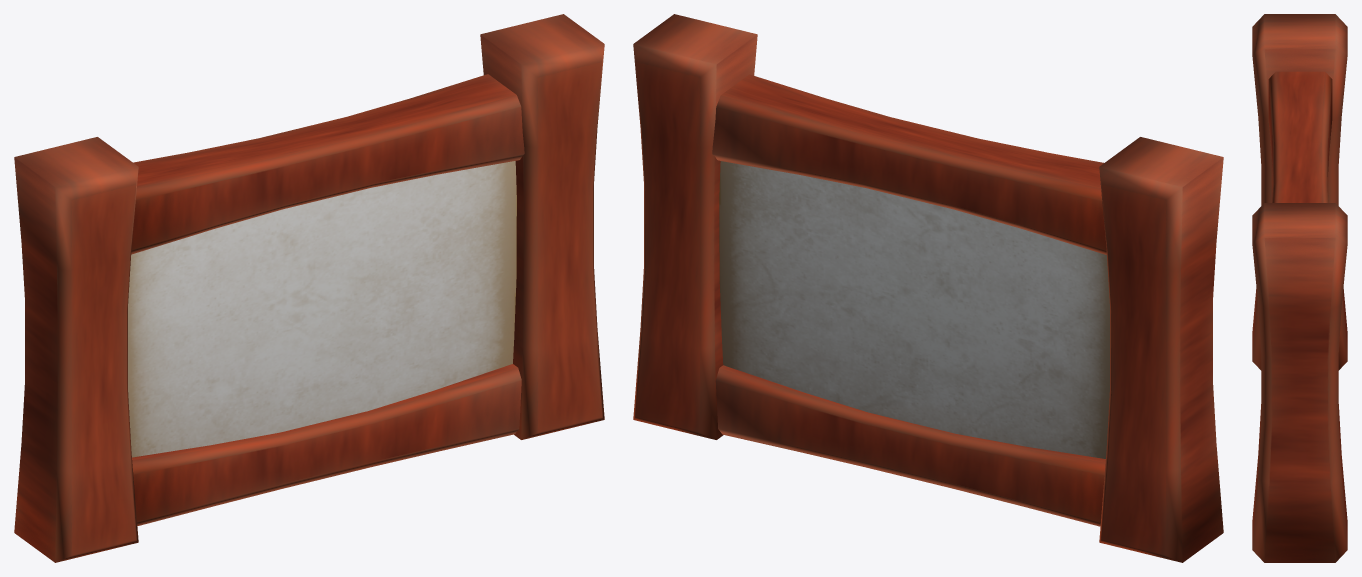
The model's file is wall_two_columne.fbx.
3 views of the same model, side by side, from view 1: azimuth 30°, elevation 25°; view 2: azimuth 150°, elevation 25°; view 3: azimuth 270°, elevation 25° (orthographic). The views are drawn at different scales.
Parts seen in each view (by area): view 1: wall_two_columne; view 2: wall_two_columne; view 3: wall_two_columne.
Boxes of the visible parts, <box> form: wall_two_columne: <box>14,14,604,562</box>; wall_two_columne: <box>633,14,1223,562</box>; wall_two_columne: <box>1252,14,1347,562</box>.
Size of the model in its own units: 1279 by 856 by 223.
